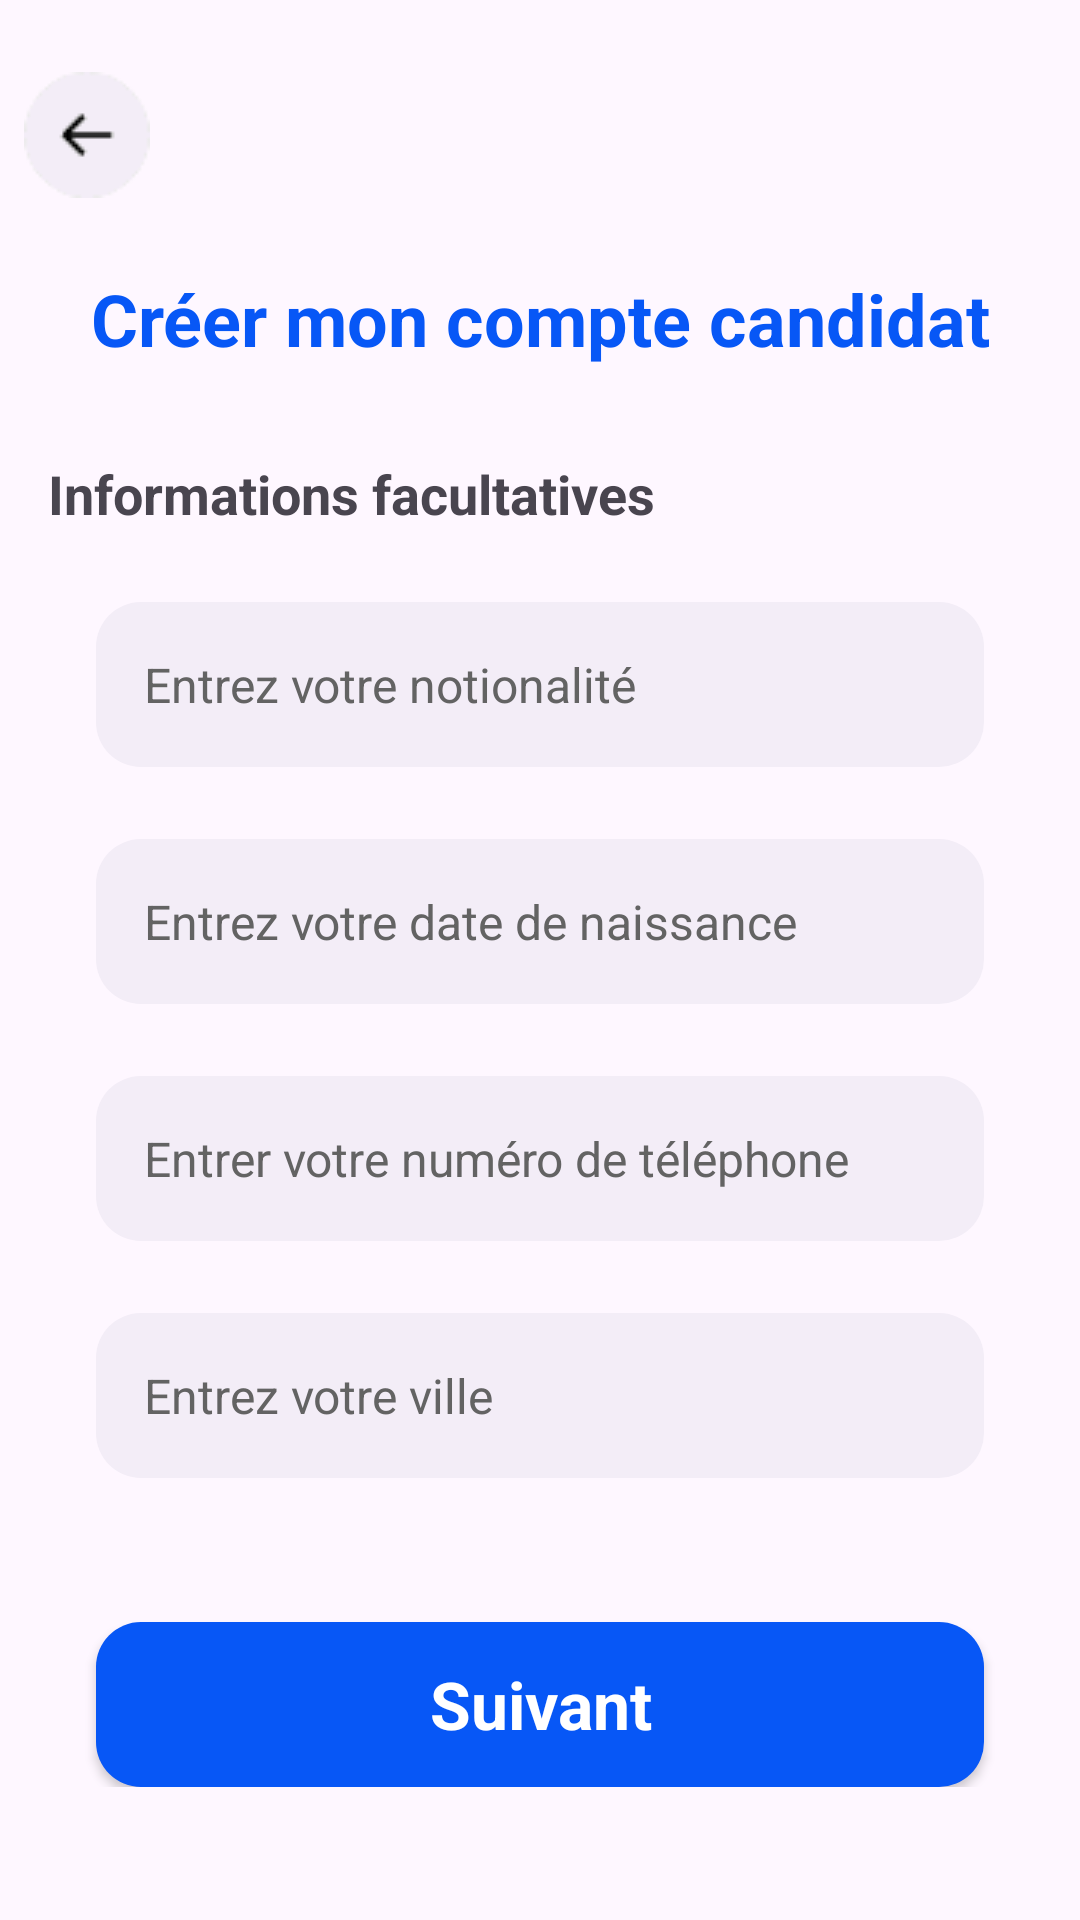

Icon click points for this 1080 x 1920 phone screenshot, format (x,y):
back: (87,135)
